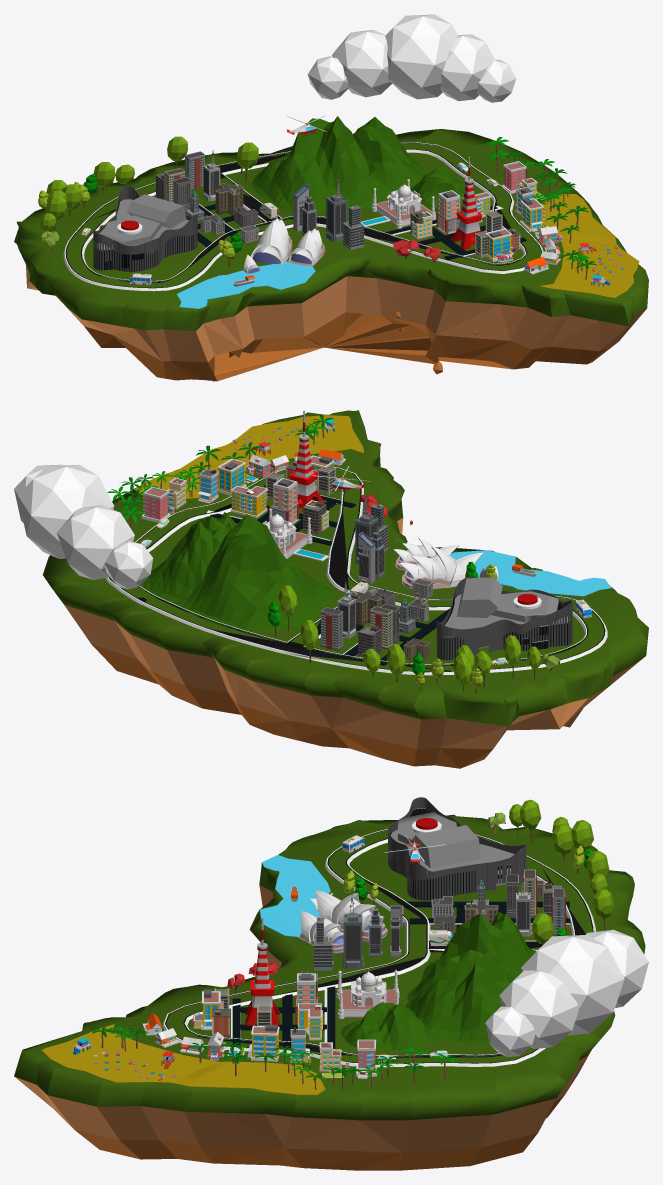
File: APAC.3cab3021.fbx
3 renders of one model, top to bottom at view 1: azimuth 30°, elevation 25°; view 2: azimuth 150°, elevation 25°; view 3: azimuth 270°, elevation 25°, orthographic. The views are drawn at different scales.
Visible parts, largest first — view 1: island, cloud, Mount, hot_APAC_building, Road, Line070, Landscape_1, Line071, Sidney001, Palm_0_004, Tajmahal_002, tower (+11 smaller); view 2: island, cloud, Mount, hot_APAC_building, Road, Line070, Landscape_1, Sidney001, Line071, Palm_0_004, tower, Tajmahal_002 (+14 smaller); view 3: island, cloud, Line070, hot_APAC_building, Road, Landscape_1, Mount, Line071, Landscape_2, Palm_0_004, Sidney001, Tajmahal_002 (+15 smaller).
Part boxes in pixels (x1=…): island: x1=14, y1=129, x2=648, y2=381; cloud: x1=307, y1=14, x2=516, y2=102; Mount: x1=251, y1=116, x2=376, y2=214; hot_APAC_building: x1=93, y1=185, x2=197, y2=272; Road: x1=63, y1=142, x2=542, y2=291; Line070: x1=539, y1=194, x2=639, y2=297; Landscape_1: x1=353, y1=117, x2=425, y2=202; Line071: x1=176, y1=261, x2=315, y2=308; Sidney001: x1=243, y1=218, x2=325, y2=273; Palm_0_004: x1=483, y1=137, x2=597, y2=279; Tajmahal_002: x1=372, y1=179, x2=435, y2=228; tower: x1=450, y1=156, x2=481, y2=249; island: x1=43, y1=410, x2=648, y2=768; cloud: x1=14, y1=464, x2=153, y2=589; Mount: x1=173, y1=514, x2=337, y2=631; hot_APAC_building: x1=436, y1=576, x2=572, y2=660; Road: x1=105, y1=467, x2=607, y2=675; Line070: x1=134, y1=415, x2=364, y2=498; Landscape_1: x1=140, y1=520, x2=231, y2=602; Sidney001: x1=393, y1=538, x2=498, y2=589; Line071: x1=449, y1=550, x2=611, y2=596; Palm_0_004: x1=107, y1=415, x2=333, y2=529; tower: x1=290, y1=410, x2=324, y2=512; Tajmahal_002: x1=262, y1=508, x2=312, y2=558; island: x1=14, y1=814, x2=645, y2=1170; cloud: x1=485, y1=929, x2=648, y2=1056; Line070: x1=41, y1=1024, x2=325, y2=1095; hot_APAC_building: x1=388, y1=797, x2=526, y2=900; Road: x1=162, y1=829, x2=595, y2=1067; Landscape_1: x1=405, y1=949, x2=513, y2=1045; Mount: x1=407, y1=912, x2=535, y2=1001; Line071: x1=260, y1=855, x2=330, y2=936; Landscape_2: x1=340, y1=1002, x2=431, y2=1051; Palm_0_004: x1=90, y1=1025, x2=460, y2=1089; Sidney001: x1=297, y1=890, x2=387, y2=953; Tajmahal_002: x1=336, y1=969, x2=399, y2=1018.
Bounding box in the file's own units: 114 × 47.59 × 105.
Materials: 48 (29 with a texture image).
